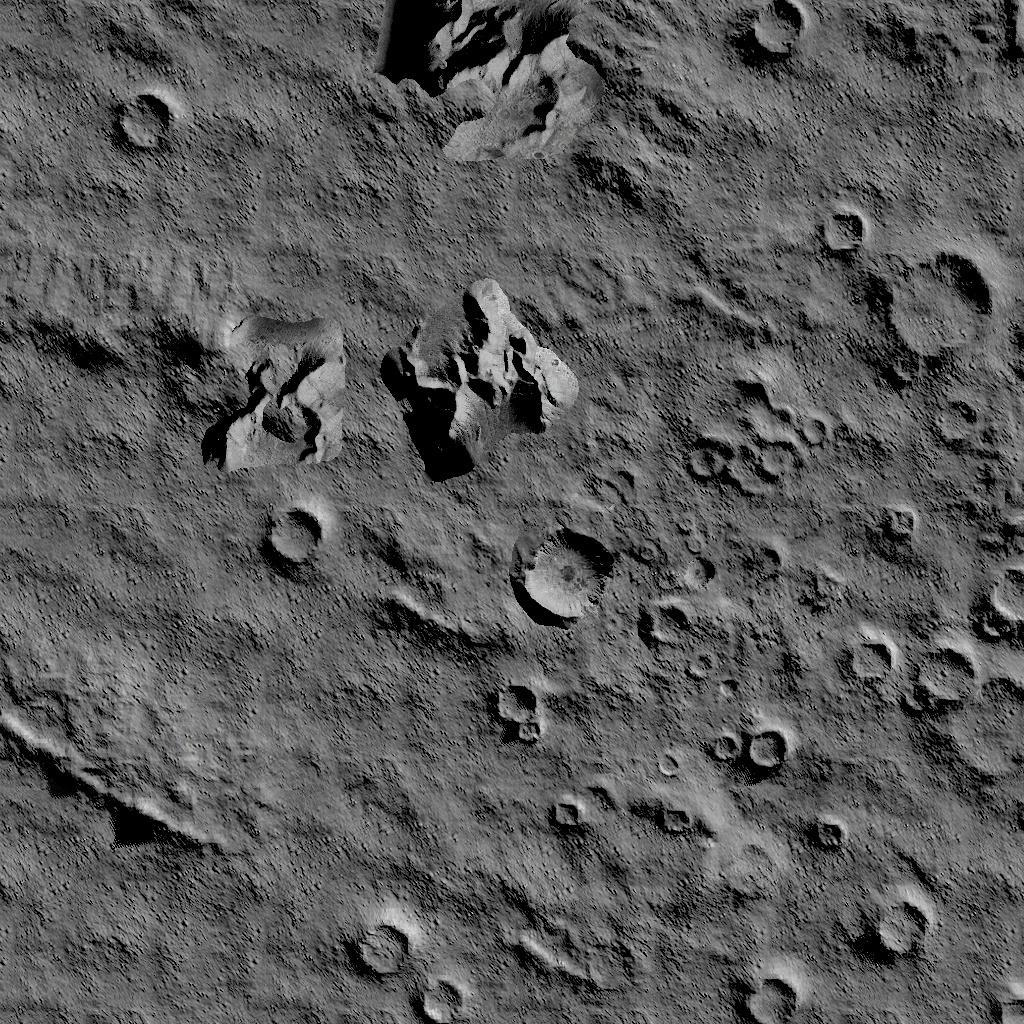Boulders: (0, 250, 345, 479), (370, 0, 668, 215), (382, 270, 580, 476), (0, 702, 224, 871), (360, 506, 488, 652)
Crater: (832, 560, 1024, 790), (876, 248, 1024, 448), (676, 366, 832, 506), (336, 902, 472, 1024), (512, 514, 624, 638), (636, 545, 723, 653), (854, 884, 942, 970), (725, 0, 817, 79), (256, 492, 332, 580), (722, 950, 812, 1024), (106, 88, 184, 166), (696, 716, 794, 772), (486, 674, 552, 754), (811, 199, 868, 269), (868, 494, 924, 546), (538, 790, 588, 842), (976, 972, 1024, 1024), (798, 810, 846, 858), (652, 795, 692, 836)
Plan surface: (3, 886, 302, 1024), (0, 502, 241, 670), (261, 671, 457, 858), (220, 0, 352, 210), (764, 98, 1022, 188)
